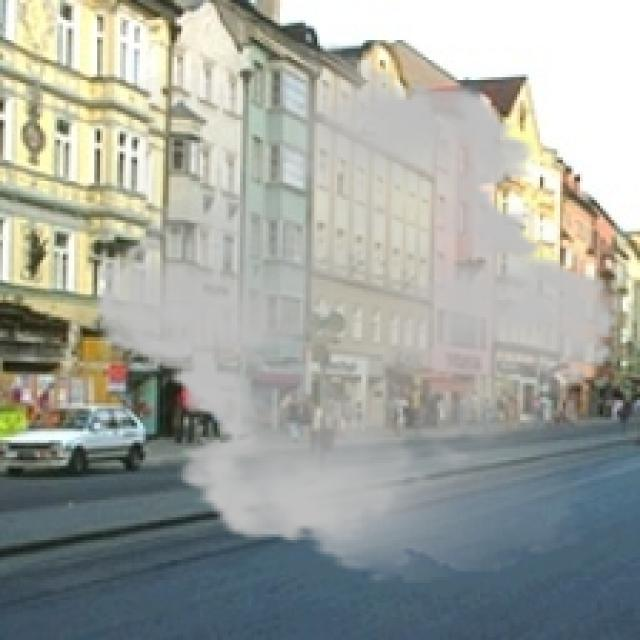Smoke: (72, 43, 638, 586)
